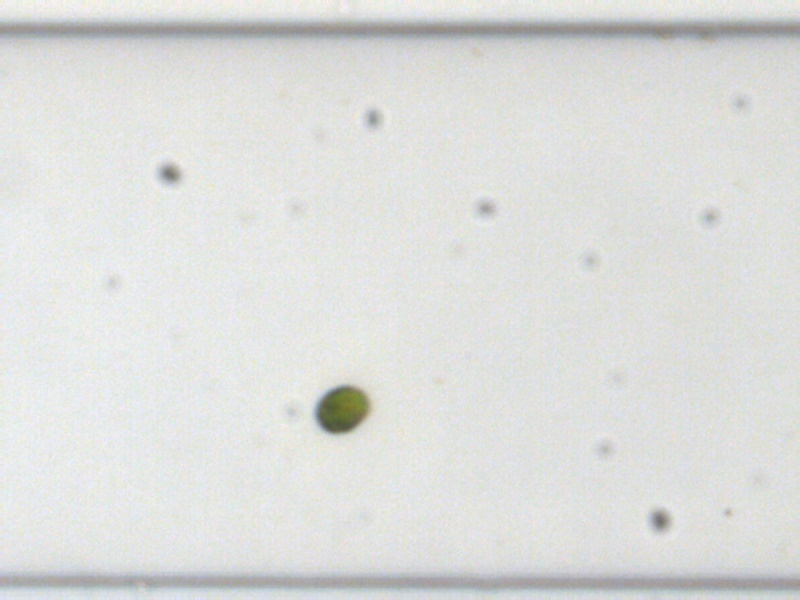Platymonas: (312, 382, 372, 436)
